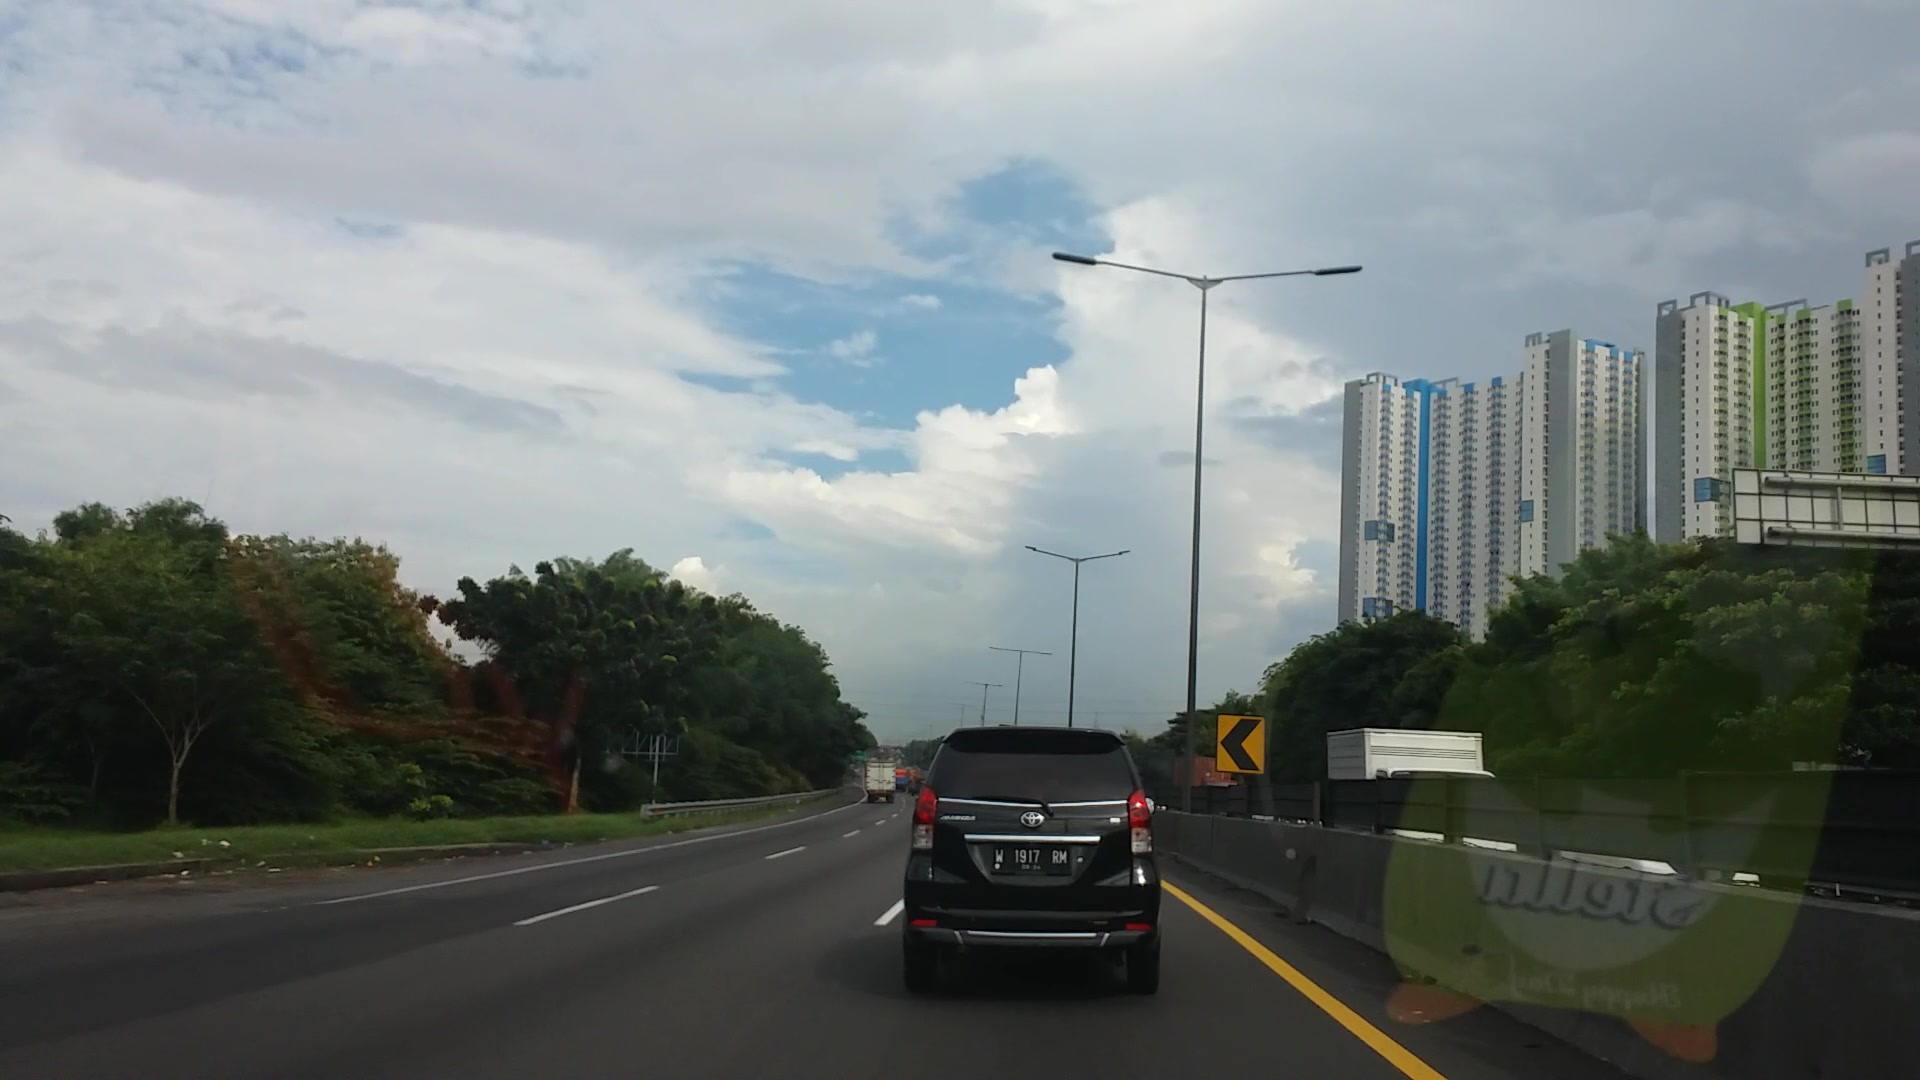plate_positive: (992, 845, 1069, 872)
